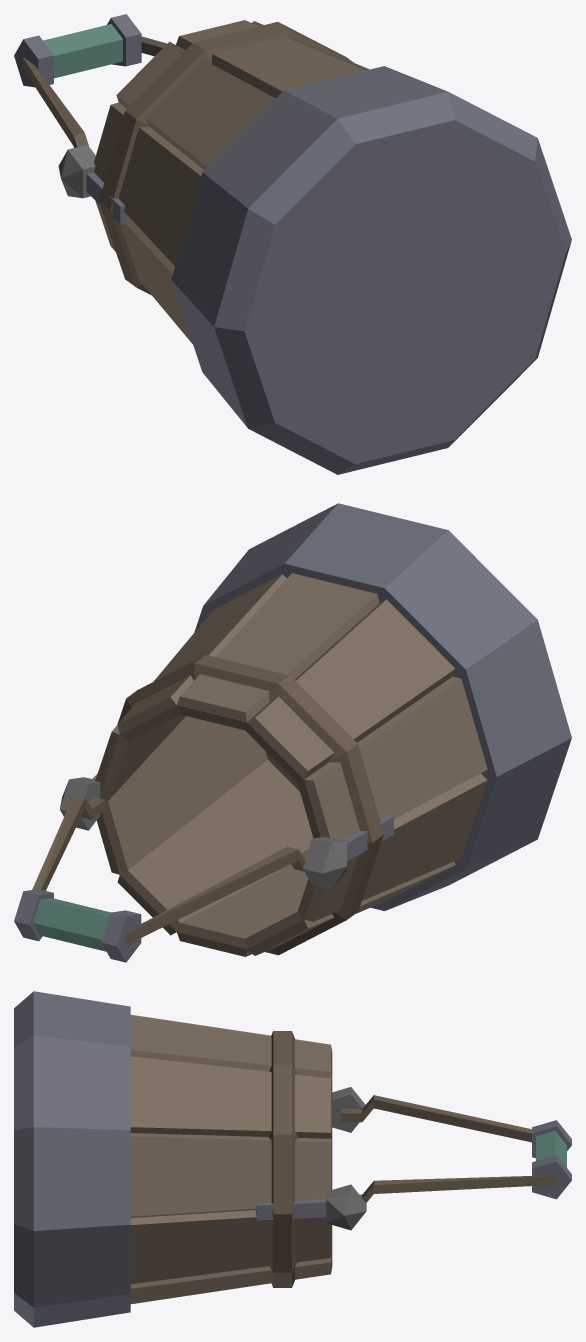
The model's file is bucket.glb.
The picture shows the model from 3 angles, top to bottom: view 1: azimuth 30°, elevation 25°; view 2: azimuth 150°, elevation 25°; view 3: azimuth 270°, elevation 25°; orthographic projection. The views are drawn at different scales.
Parts seen in each view (by area): view 1: bucket; view 2: bucket; view 3: bucket.
Part boxes in pixels (x1,y1,x2,y2): bucket: (14,14,571,474); bucket: (14,503,571,962); bucket: (14,991,571,1327).
Bounding box in the file's own units: 0.2431 × 0.2312 × 0.4.
Materials: 1 (1 with a texture image).
